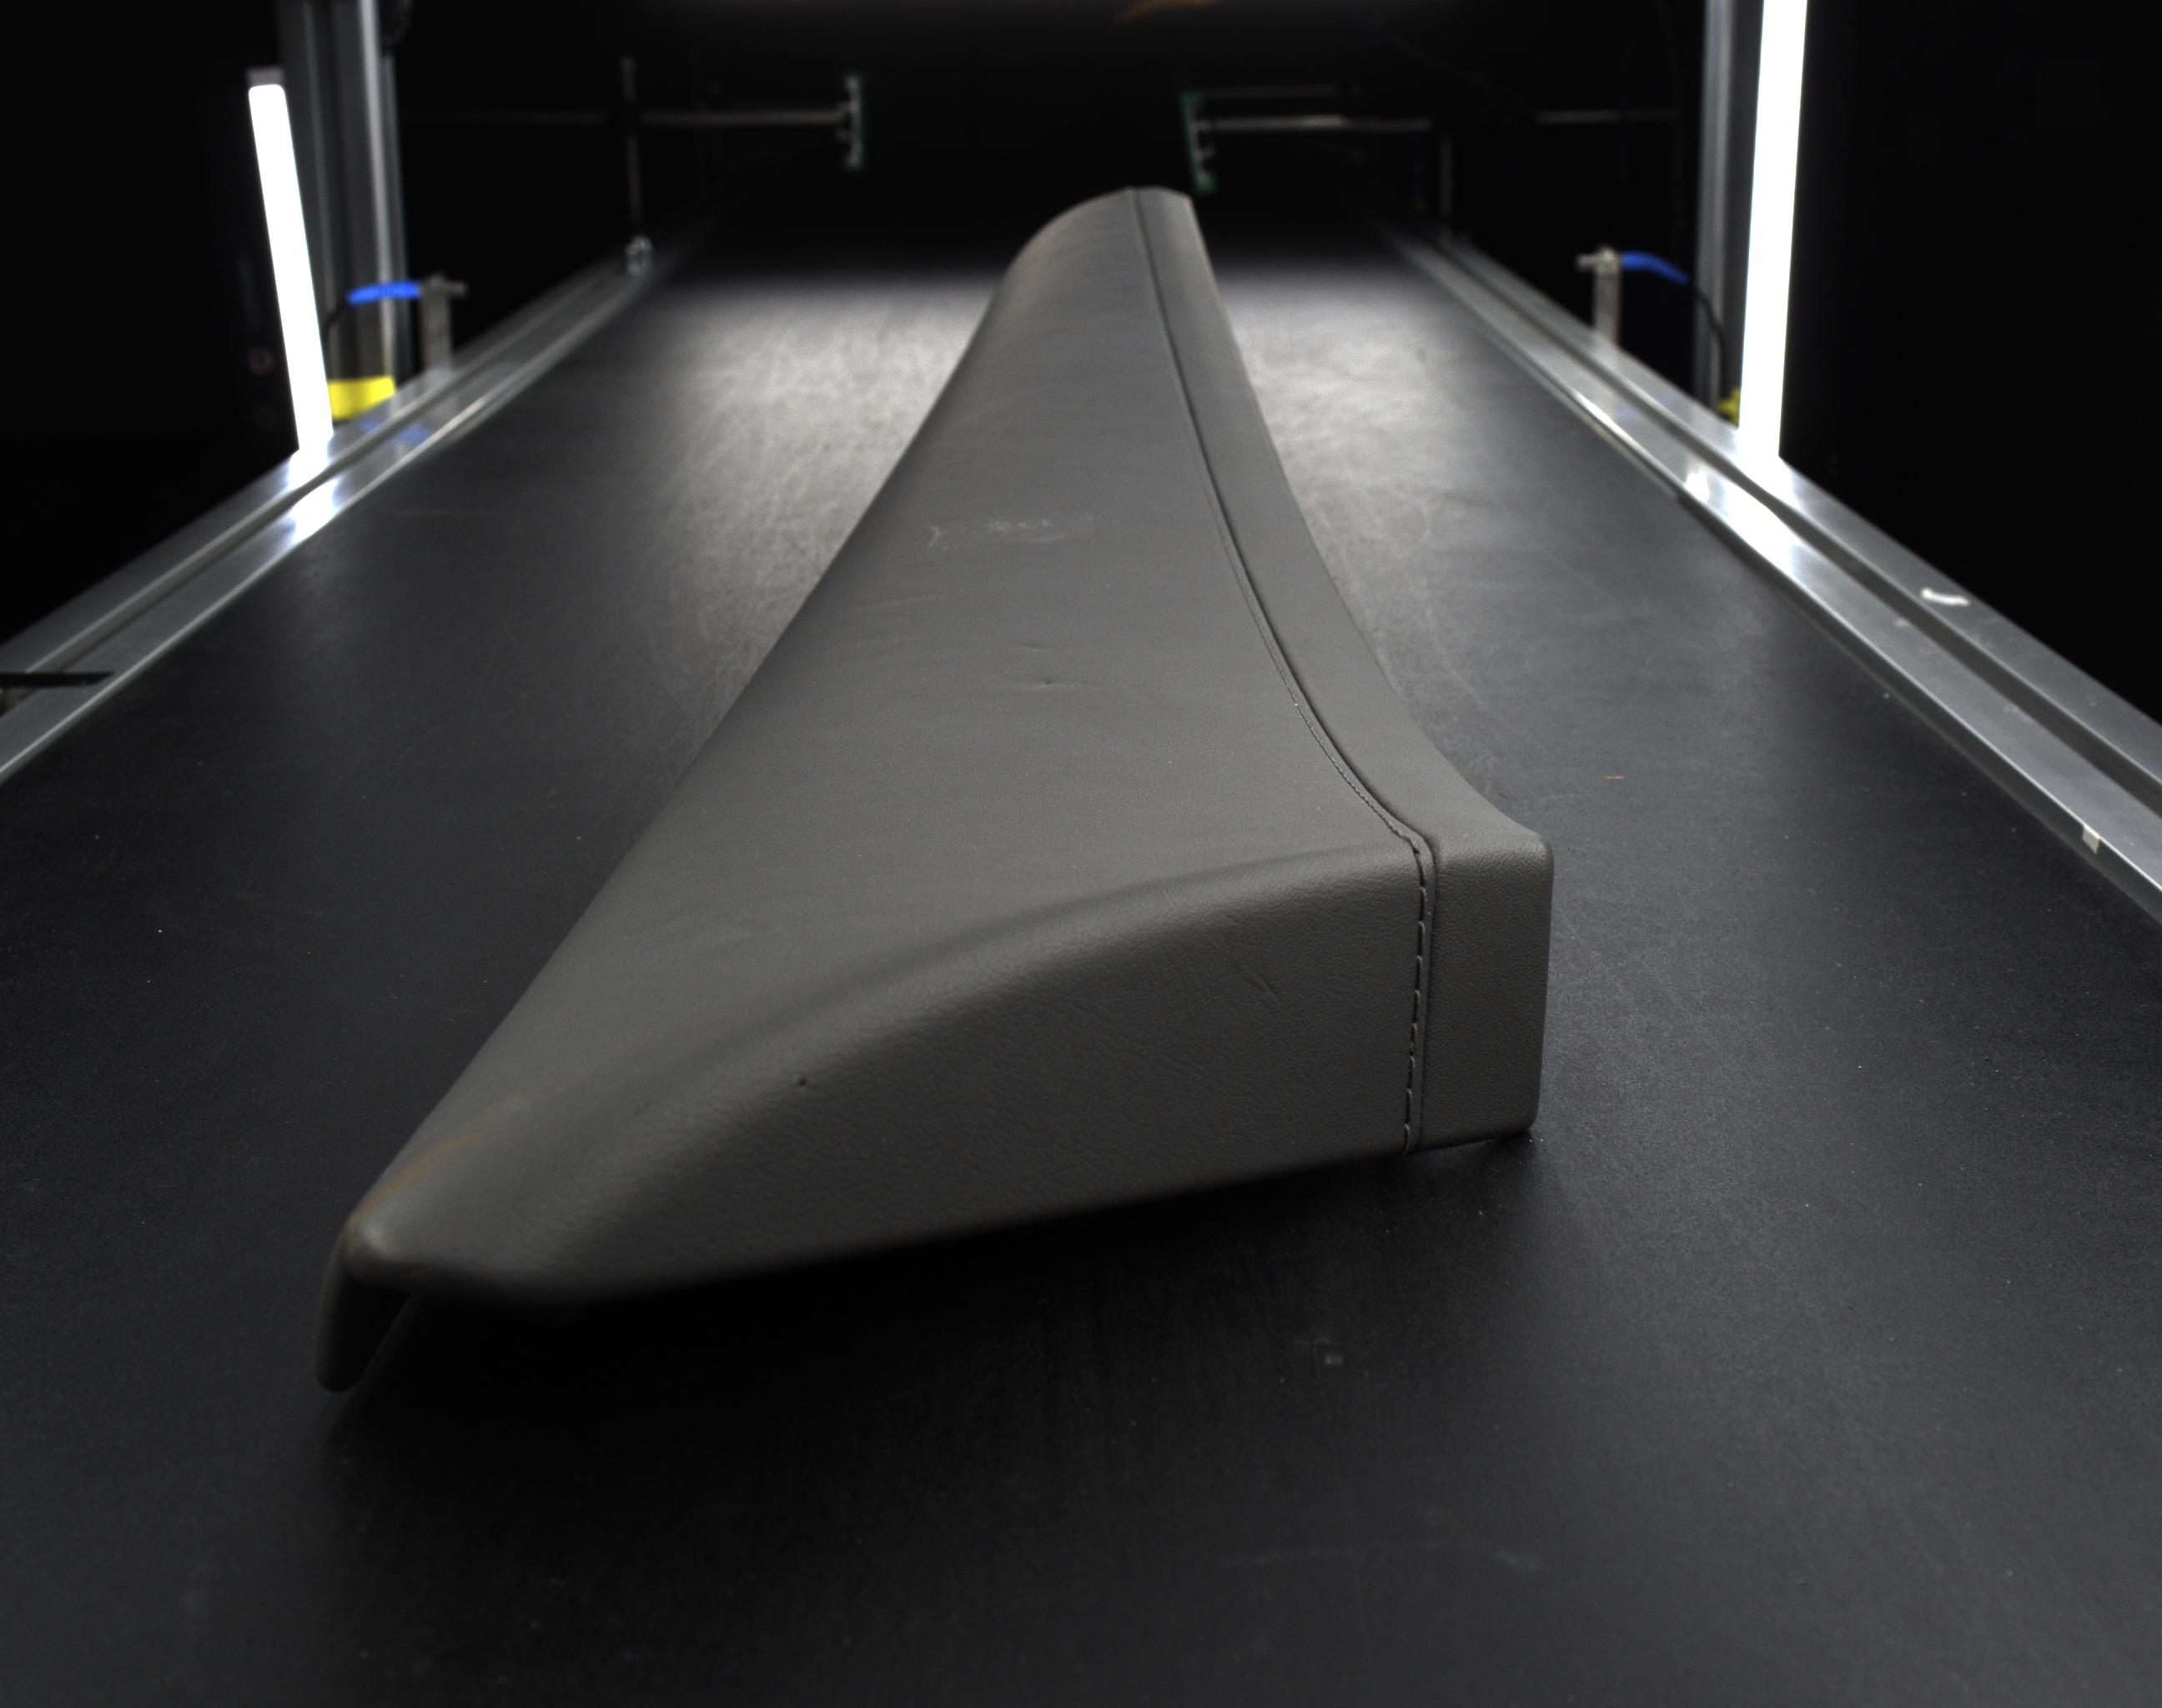vline: (1418, 888, 1428, 920), (1407, 1057, 1418, 1087), (1418, 922, 1427, 953), (1406, 1088, 1414, 1116), (1409, 1023, 1418, 1050), (1413, 990, 1420, 1022), (1404, 1125, 1413, 1146), (1416, 957, 1421, 988)
